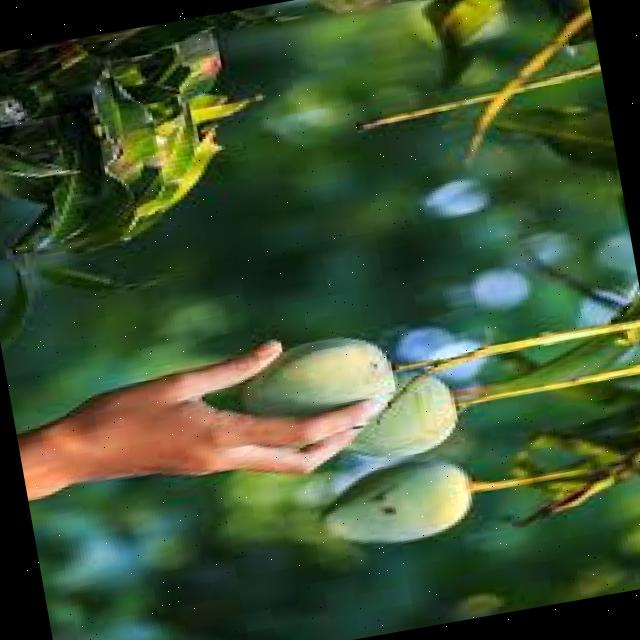mango: (203, 335, 398, 421)
